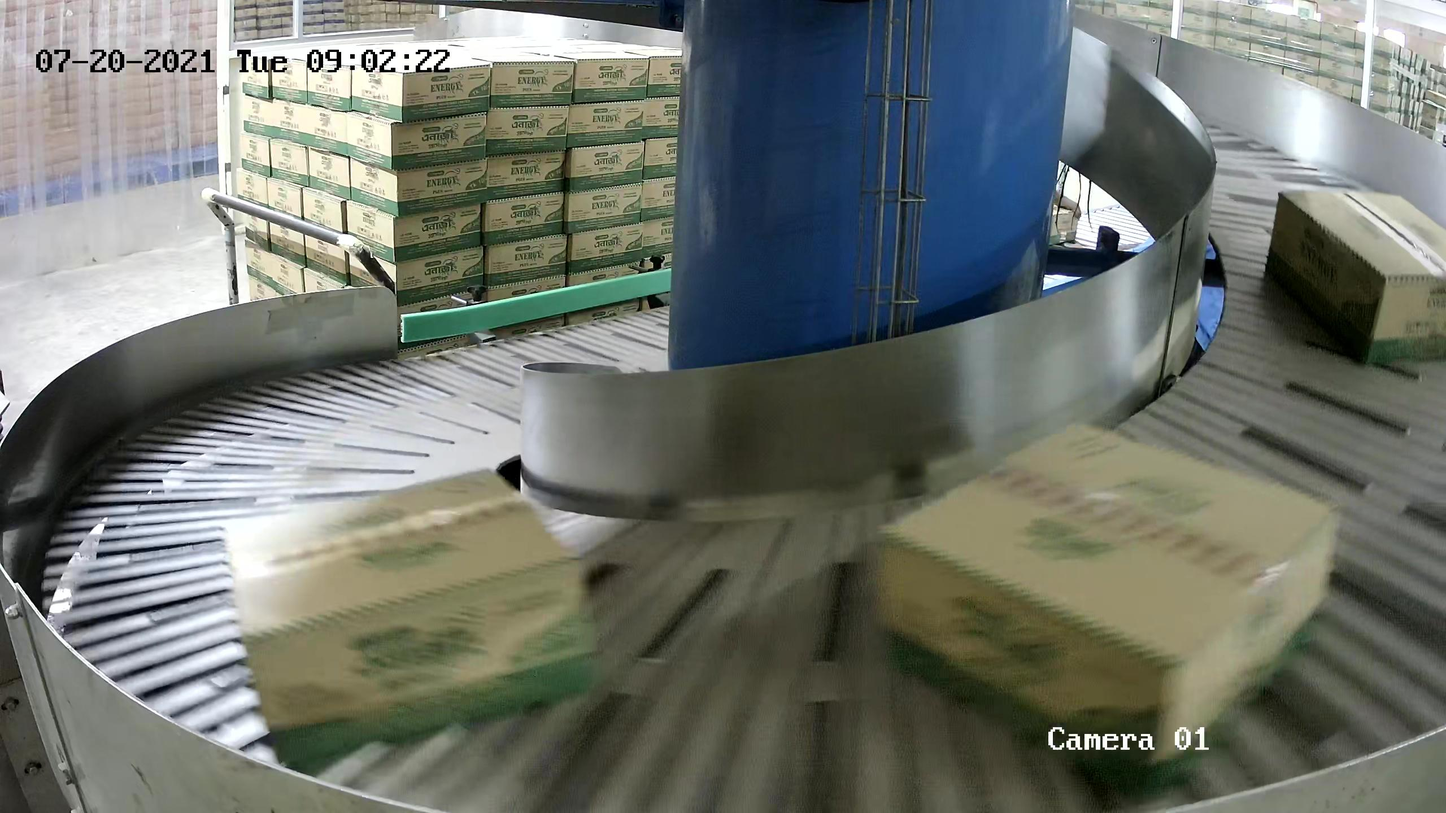Box: (872, 415, 1340, 806), (221, 462, 610, 772), (1264, 186, 1446, 370)
